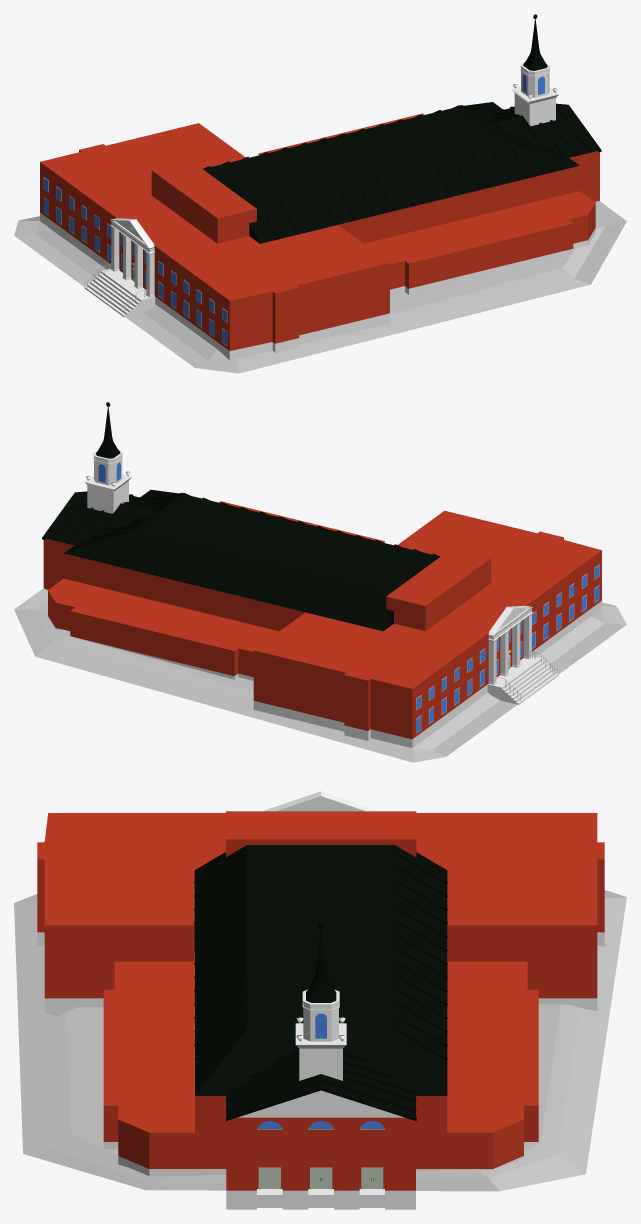
File: marquisLOD1.obj
3 renders of one model, top to bottom at view 1: azimuth 30°, elevation 25°; view 2: azimuth 150°, elevation 25°; view 3: azimuth 270°, elevation 25°, orthographic. The views are drawn at different scales.
Visible parts, largest first — view 1: MarquisFloor_Plane.004, MarquisFloor.002_Plane.014, MarquisFloor.001_Plane.013, Dirt_Plane.008, Plane.003_Plane.005, MarquisFloor.003_Plane.017, MarquisFloor.008_Plane.006, Cube.026_Cube.002, Cube.006_Cube.009, MarquisFloor.009_Plane.007, Cube.011_Cube.014, Cube.012_Cube.018 (+4 smaller); view 2: MarquisFloor_Plane.004, MarquisFloor.002_Plane.014, MarquisFloor.001_Plane.013, Dirt_Plane.008, Plane.003_Plane.005, MarquisFloor.003_Plane.017, MarquisFloor.008_Plane.006, Cube.026_Cube.002, Cube.006_Cube.009, Cube.011_Cube.014, Cube.012_Cube.018, Cube.003_Cube.010 (+5 smaller); view 3: MarquisFloor_Plane.004, MarquisFloor.002_Plane.014, MarquisFloor.001_Plane.013, Dirt_Plane.008, Plane.003_Plane.005, MarquisFloor.003_Plane.017, MarquisFloor.009_Plane.007, MarquisFloor.007_Plane.018, Cube.011_Cube.014, MarquisFloor.008_Plane.006, Cube.028_Cube.030, Cube.002_Cube.004 (+1 smaller).
Boxes of the visible parts, x1,y1,x2,y2 form: MarquisFloor_Plane.004: (40,123,389,350); MarquisFloor.002_Plane.014: (203,102,579,243); MarquisFloor.001_Plane.013: (258,113,599,289); Dirt_Plane.008: (14,201,626,373); Plane.003_Plane.005: (151,161,256,243); MarquisFloor.003_Plane.017: (487,103,601,157); MarquisFloor.008_Plane.006: (40,212,389,360); Cube.026_Cube.002: (111,225,154,297); Cube.006_Cube.009: (84,270,143,317); MarquisFloor.009_Plane.007: (390,201,598,295); Cube.011_Cube.014: (511,86,558,125); Cube.012_Cube.018: (43,198,226,345); MarquisFloor_Plane.004: (253,510,601,739); MarquisFloor.002_Plane.014: (64,489,440,631); MarquisFloor.001_Plane.013: (43,501,384,676); Dirt_Plane.008: (14,588,626,762); Plane.003_Plane.005: (386,548,491,631); MarquisFloor.003_Plane.017: (42,491,156,545); MarquisFloor.008_Plane.006: (253,601,601,748); Cube.026_Cube.002: (488,613,532,684); Cube.006_Cube.009: (499,658,558,704); Cube.011_Cube.014: (84,474,131,513); Cube.012_Cube.018: (416,585,599,732); Cube.003_Cube.010: (416,565,599,709); MarquisFloor_Plane.004: (37,813,604,998); MarquisFloor.002_Plane.014: (194,845,447,1095); MarquisFloor.001_Plane.013: (103,925,538,1190); Dirt_Plane.008: (14,890,626,1191); Plane.003_Plane.005: (226,811,416,856); MarquisFloor.003_Plane.017: (225,1048,416,1121); MarquisFloor.009_Plane.007: (103,1142,526,1209); MarquisFloor.007_Plane.018: (238,1090,404,1117); Cube.011_Cube.014: (295,1023,346,1080); MarquisFloor.008_Plane.006: (37,932,604,1016); Cube.028_Cube.030: (264,791,377,811); Cube.002_Cube.004: (306,929,336,1002).
Size of what is drawn, in the model's own units: 215 by 79.91 by 167.
